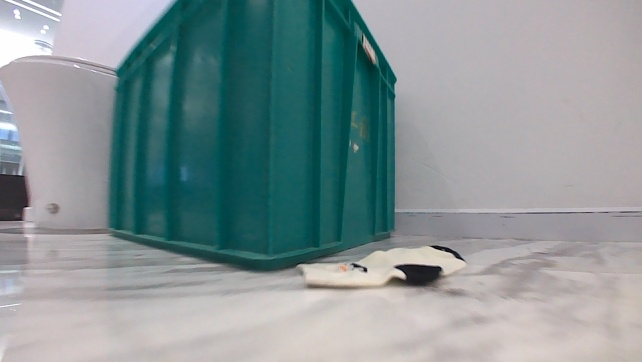socks: (293, 238, 466, 295)
toilet: (0, 52, 121, 232)
